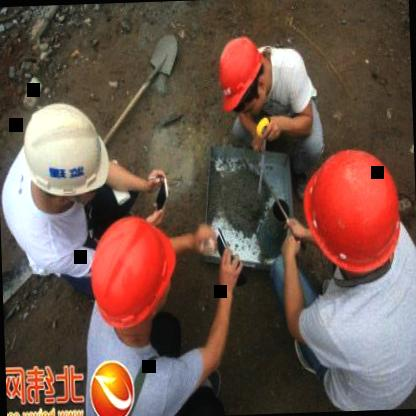helmet: (290, 138, 416, 298), (13, 87, 116, 232), (82, 206, 180, 344), (208, 31, 276, 136)
